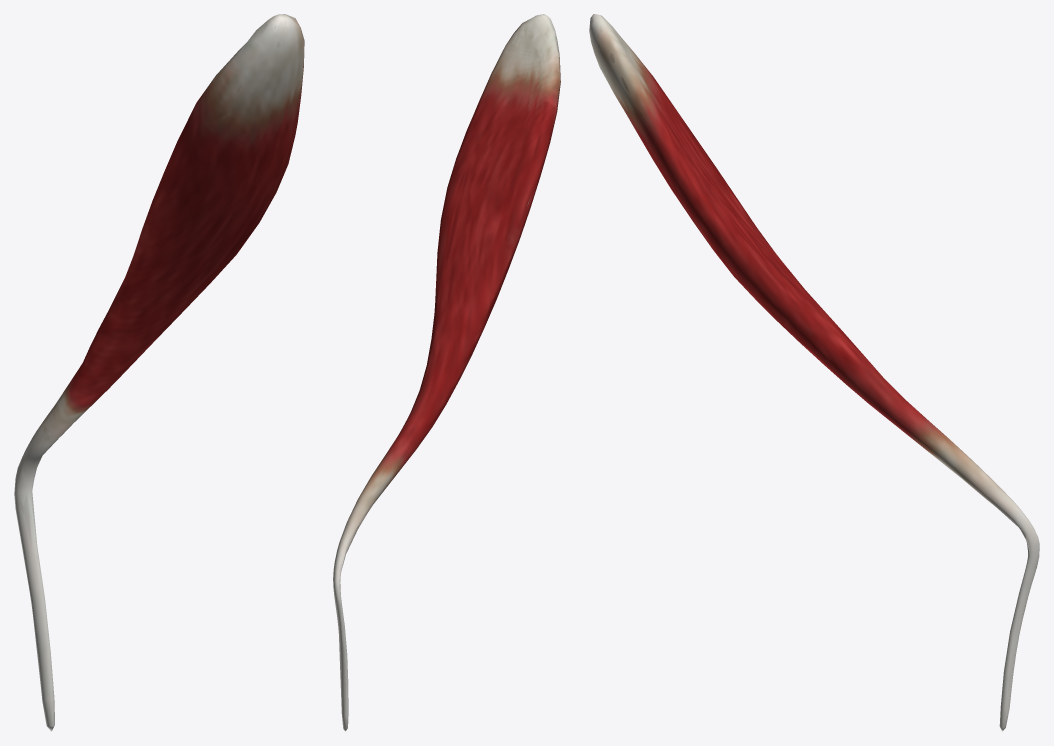
File: R Extensor digitorum lateralis.fbx
The picture shows the model from 3 angles, left to right: view 1: azimuth 30°, elevation 25°; view 2: azimuth 150°, elevation 25°; view 3: azimuth 270°, elevation 25°; orthographic projection. The views are drawn at different scales.
Parts seen in each view (by area): view 1: R Extensor digitorum lateralis, R Extensor digitorum lateralis low, R Extensor digitorum lateralis high; view 2: R Extensor digitorum lateralis low, R Extensor digitorum lateralis, R Extensor digitorum lateralis high; view 3: R Extensor digitorum lateralis, R Extensor digitorum lateralis low, R Extensor digitorum lateralis high.
Boxes of the visible parts, left/top/right/bottom form: R Extensor digitorum lateralis: left=14, top=14, right=304, bottom=731; R Extensor digitorum lateralis low: left=16, top=15, right=304, bottom=698; R Extensor digitorum lateralis high: left=17, top=17, right=303, bottom=680; R Extensor digitorum lateralis low: left=336, top=14, right=560, bottom=710; R Extensor digitorum lateralis: left=333, top=14, right=560, bottom=731; R Extensor digitorum lateralis high: left=334, top=20, right=557, bottom=700; R Extensor digitorum lateralis: left=589, top=14, right=1039, bottom=731; R Extensor digitorum lateralis low: left=591, top=14, right=1033, bottom=707; R Extensor digitorum lateralis high: left=591, top=17, right=1037, bottom=691.
Size of the model in its own units: 1.71 by 11.72 by 6.81.
